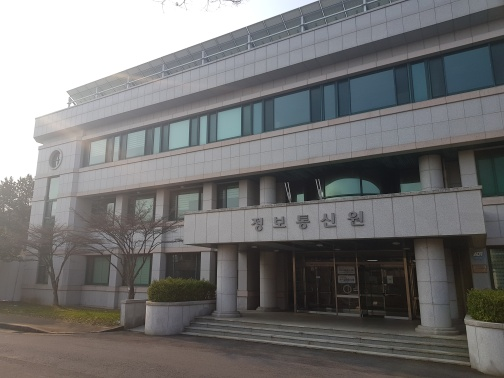Information Telecommunication Center: (40, 20, 501, 339), (287, 253, 416, 318), (232, 204, 401, 240)
